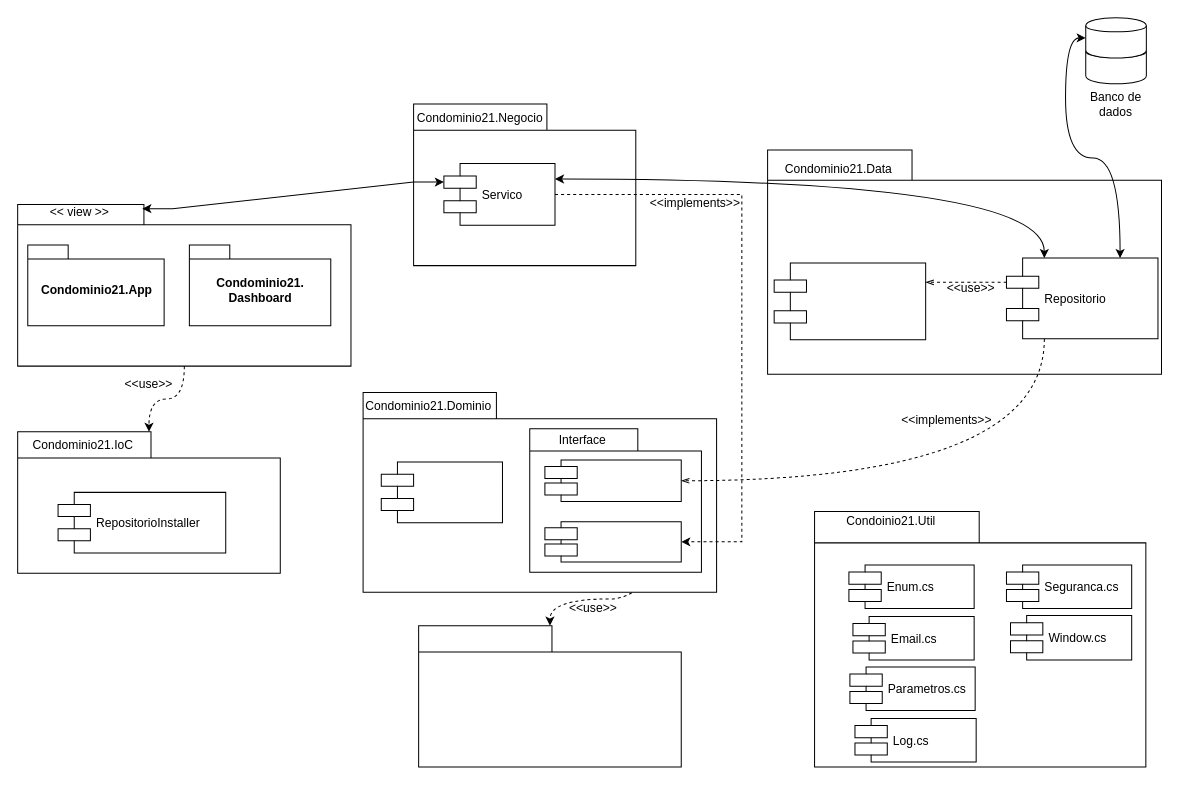
The diagram is 1180 pixels wide and 785 high, and some of its shapes have lost their labels. The shapes that lost their labels are listed below. From the top down, each one's centre as x and y in pixels, then its label:
(849,301): ConnectionFactory
(441,492): Entidades
(612,480): IRepositorio
(612,541): IServico
(549,696): Condominio21.DTO
